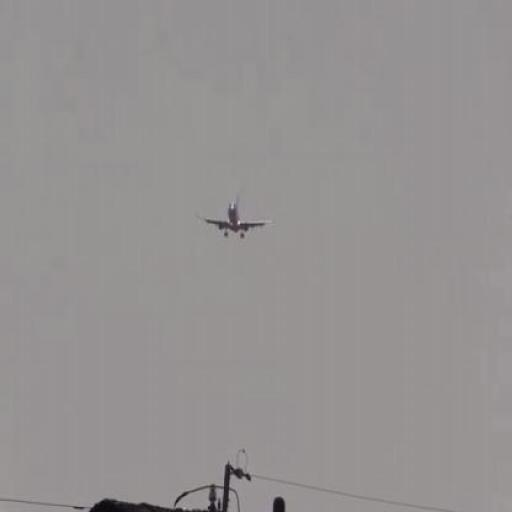aircraft: (196, 196, 277, 238)
